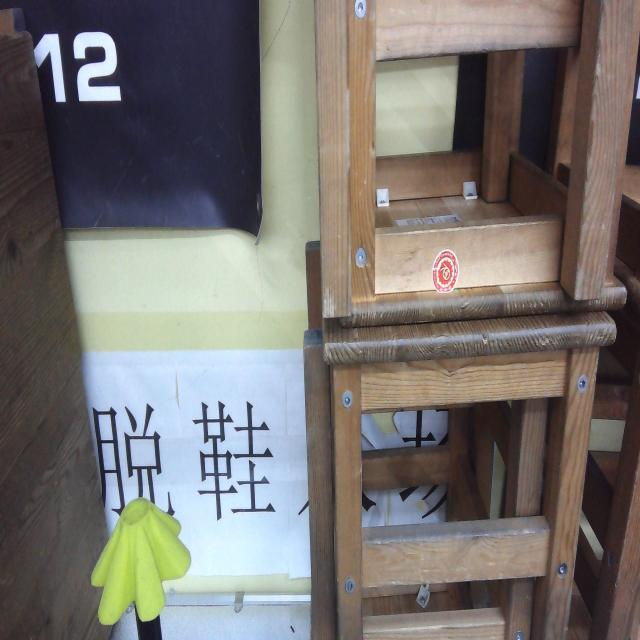Yellow-Stake-Head: (90, 496, 192, 626)
